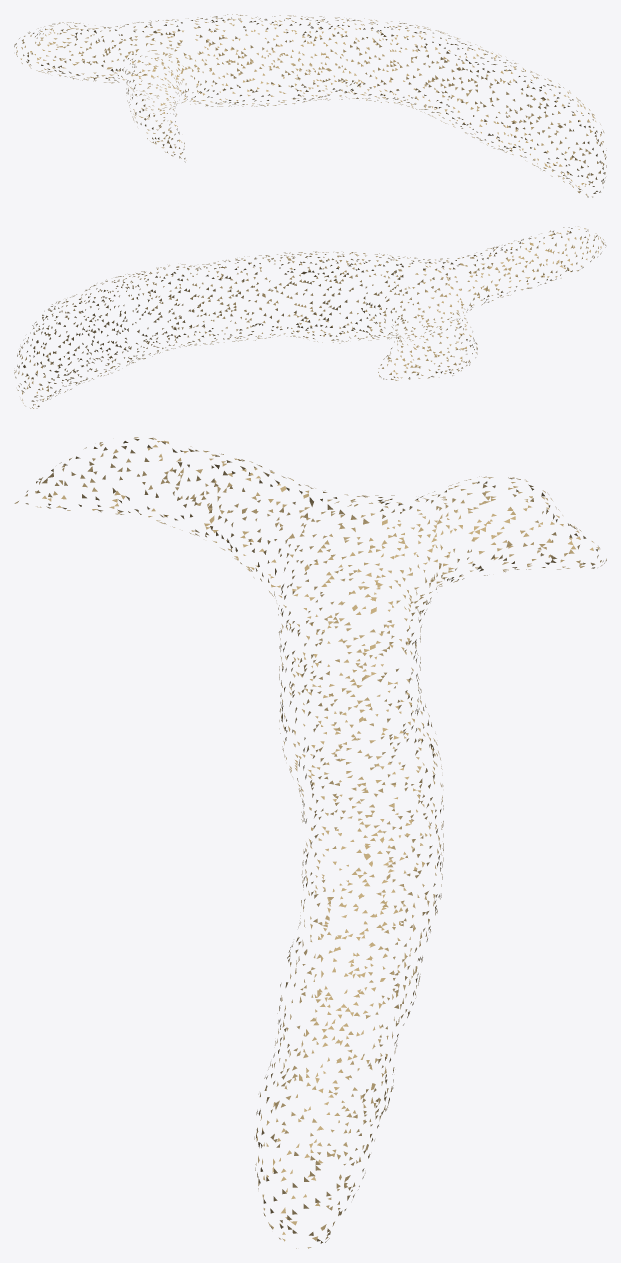
File: morph_007.glb
3 views of the same model, one above another, from view 1: azimuth 30°, elevation 25°; view 2: azimuth 150°, elevation 25°; view 3: azimuth 270°, elevation 25° (orthographic). The views are drawn at different scales.
Size of the model in its own units: 121 by 58.32 by 73.68.
